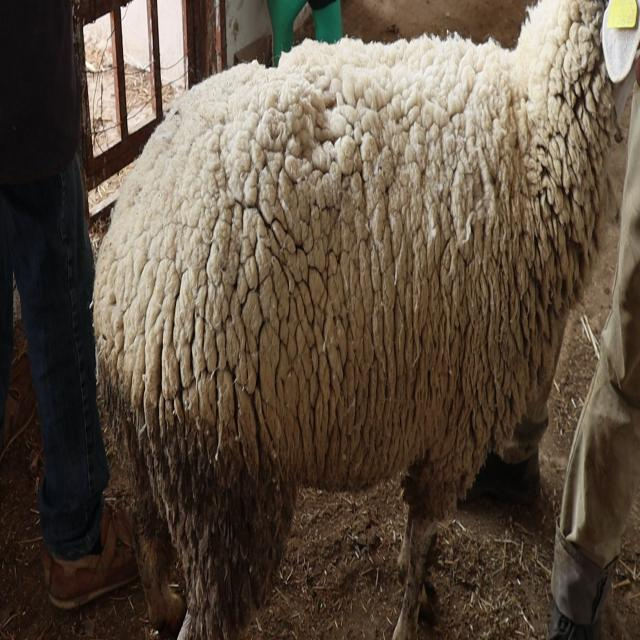Score_4: (94, 0, 640, 639)
